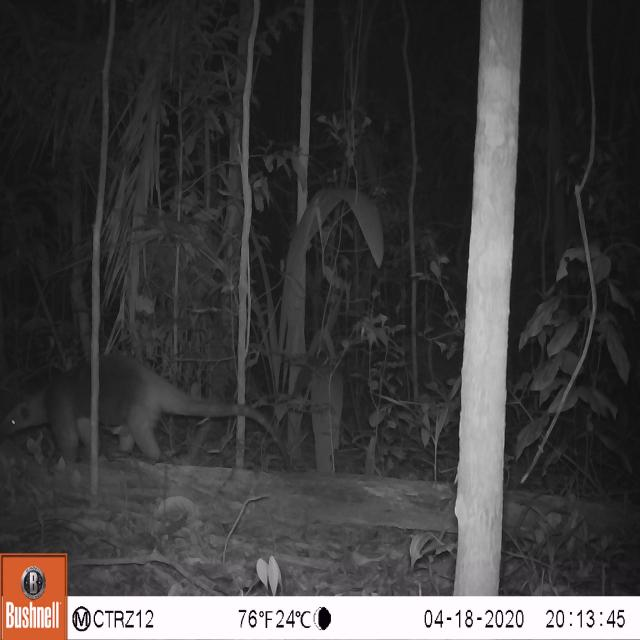Southern Tamandua: (8, 343, 276, 465)
